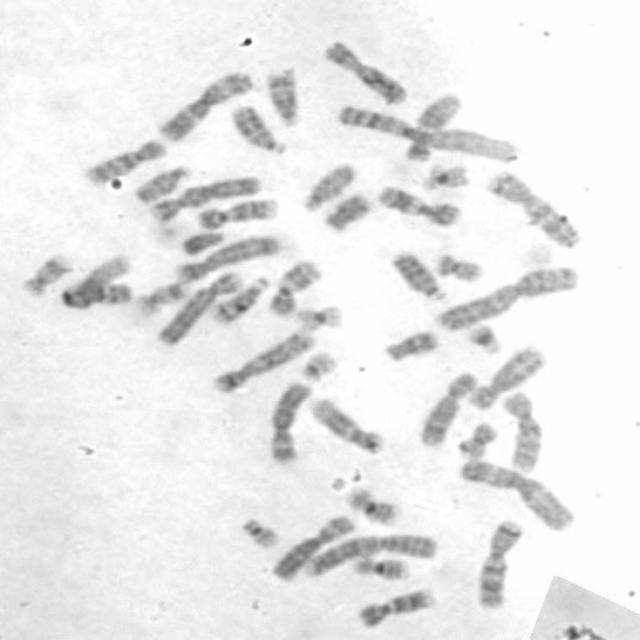A1: (330, 99, 522, 165), (55, 250, 135, 310)
A2: (429, 263, 581, 334), (302, 531, 438, 578)
A3: (454, 457, 578, 534), (152, 66, 255, 144)
B4: (151, 267, 244, 349), (144, 172, 263, 224)
B5: (208, 328, 318, 395), (171, 232, 283, 284)
C10: (82, 137, 168, 187), (498, 388, 545, 474)
C11: (373, 182, 464, 230), (266, 260, 327, 321)
C12: (305, 393, 387, 457), (398, 88, 466, 164)
C6: (265, 511, 356, 582), (264, 380, 313, 464)
C7: (483, 167, 584, 250), (472, 517, 523, 611)
C8: (464, 341, 548, 413), (415, 369, 477, 448)
C9: (352, 586, 436, 629), (195, 195, 279, 231)
D13: (384, 246, 448, 304), (226, 100, 290, 156)
D14: (208, 274, 270, 326), (260, 67, 301, 128)
D15: (298, 160, 356, 213), (130, 162, 191, 205)
E16: (340, 485, 401, 527), (349, 552, 409, 582)
E17: (18, 248, 72, 298), (130, 278, 192, 317)
E18: (319, 189, 373, 233), (380, 328, 440, 363)
F19: (288, 302, 344, 334), (417, 160, 471, 192)
F20: (430, 249, 485, 283), (455, 419, 498, 461)
G21: (462, 318, 504, 356)
G22: (295, 348, 339, 383), (237, 516, 281, 550)
X: (319, 37, 410, 105)
Y: (319, 189, 373, 233), (176, 226, 226, 258)
